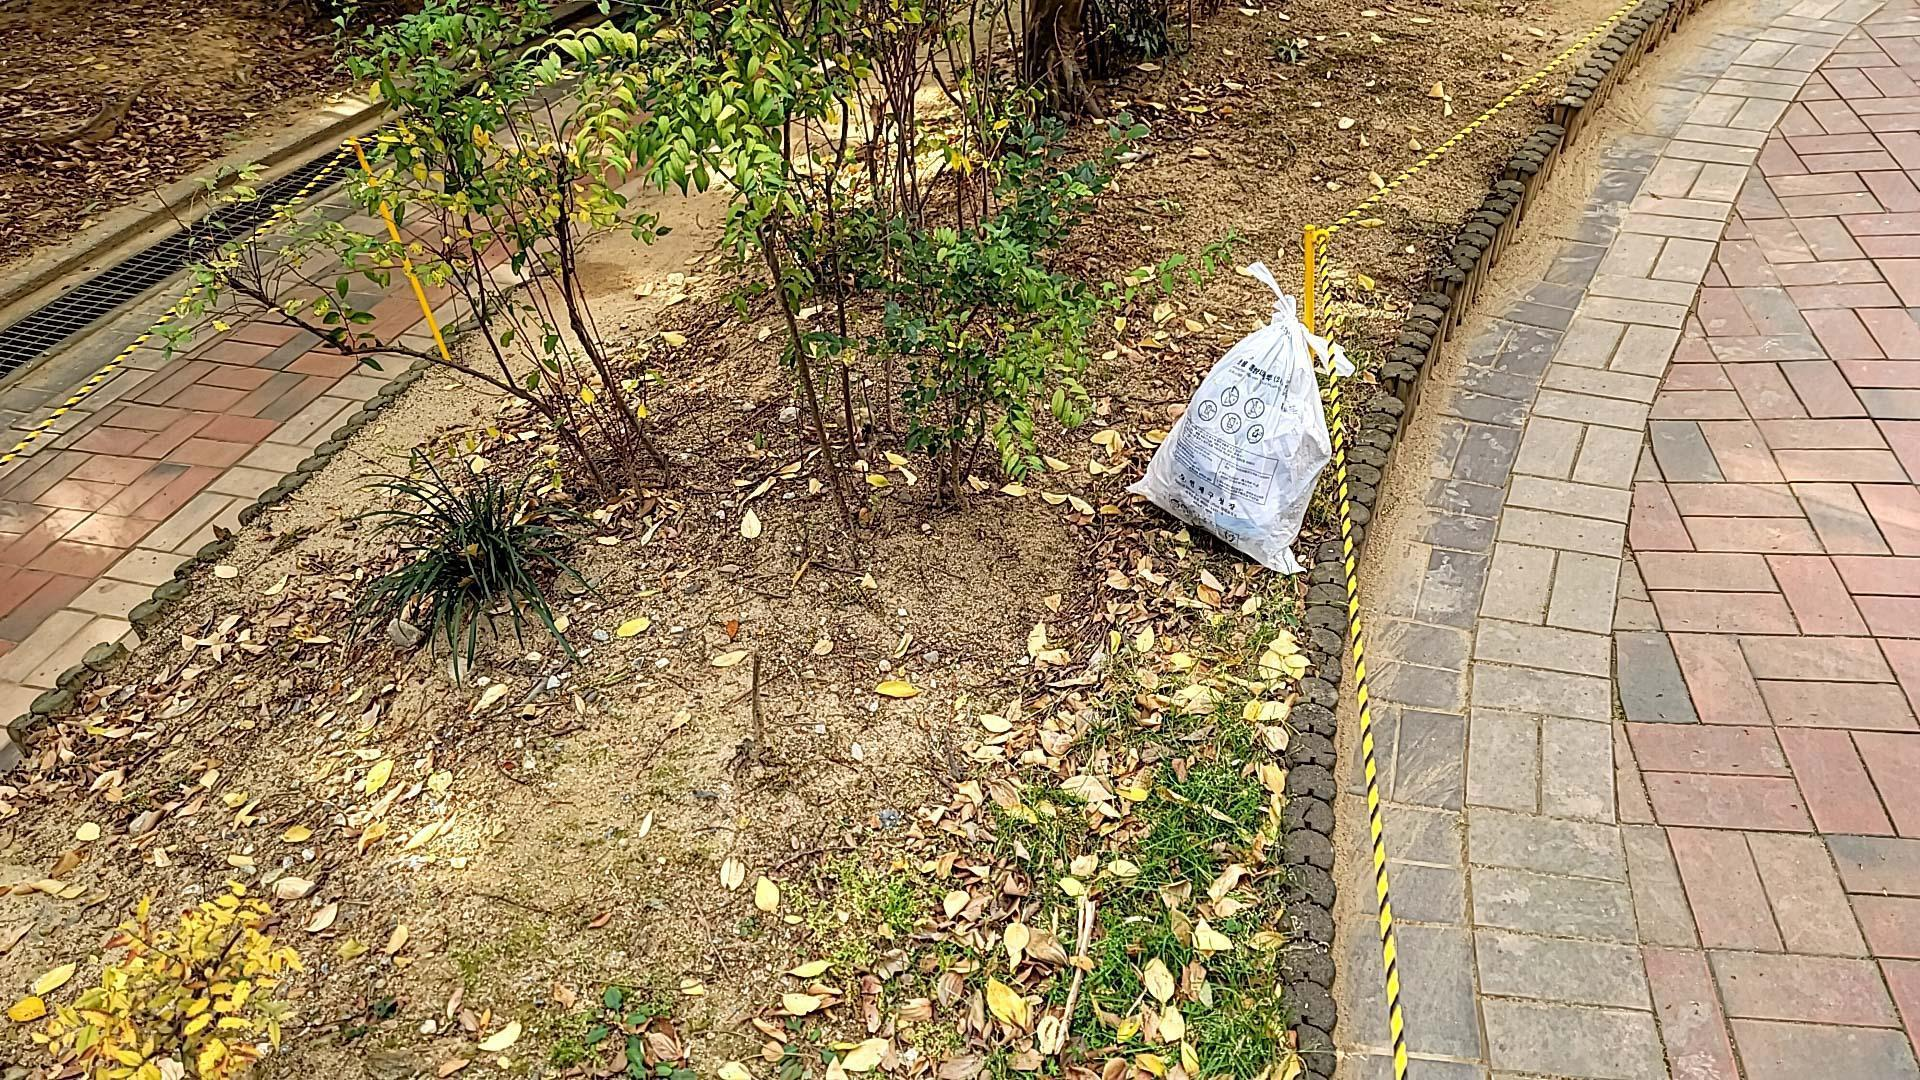white_bag: (1118, 232, 1365, 601)
